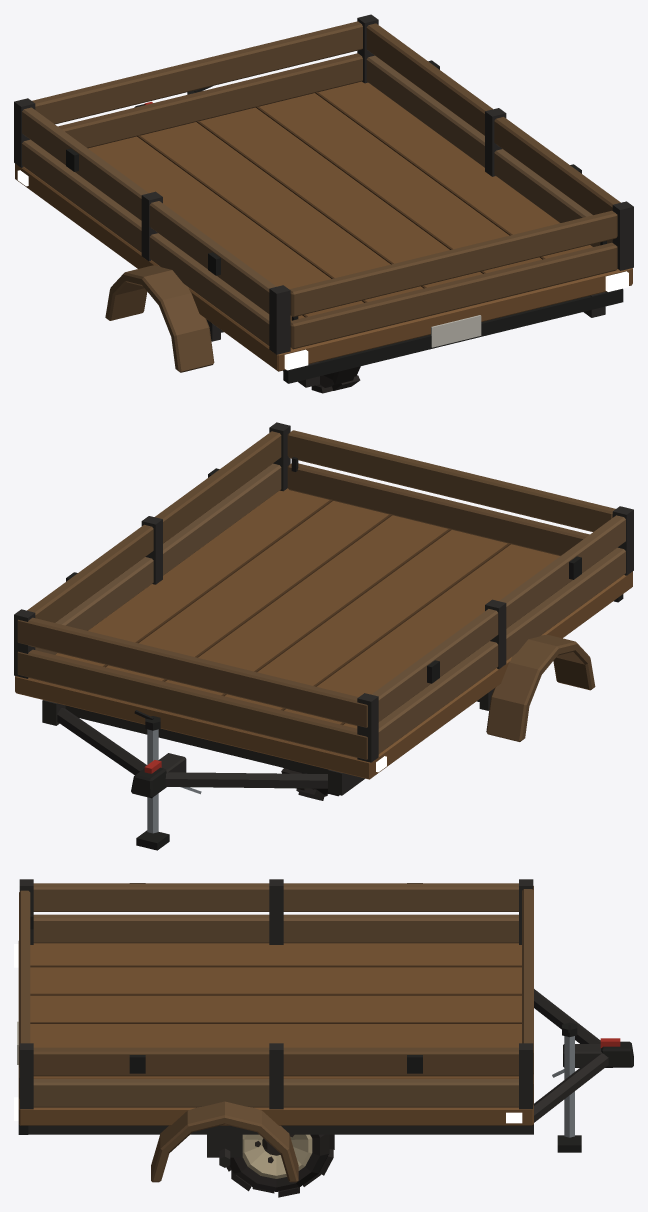
File: PonyTrailer_LoggingRig.glb
3 views of the same model, one above another, from view 1: azimuth 30°, elevation 25°; view 2: azimuth 150°, elevation 25°; view 3: azimuth 270°, elevation 25° (orthographic). The views are drawn at different scales.
Parts seen in each view (by area): view 1: Bed, Body, Lights, Wheel; view 2: Bed, Body, Hitch; view 3: Bed, Body, Hitch, Wheel.
Boxes of the visible parts, bbox=[...] form: Bed: bbox=[14, 14, 633, 371]; Body: bbox=[105, 265, 623, 387]; Lights: bbox=[17, 170, 628, 370]; Wheel: bbox=[311, 366, 360, 393]; Bed: bbox=[14, 422, 633, 779]; Body: bbox=[42, 594, 623, 795]; Hitch: bbox=[57, 708, 327, 850]; Bed: bbox=[18, 879, 533, 1125]; Body: bbox=[17, 1021, 533, 1182]; Hitch: bbox=[534, 989, 633, 1152]; Wheel: bbox=[226, 1134, 334, 1197].
Bounding box in the file's own units: 11.87 × 6.31 × 15.64.
